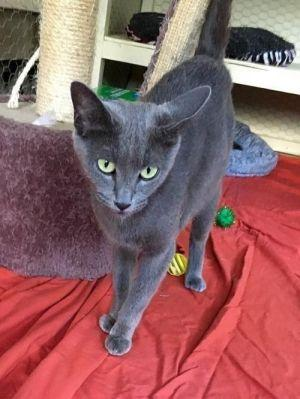rblue: (59, 71, 219, 237)
